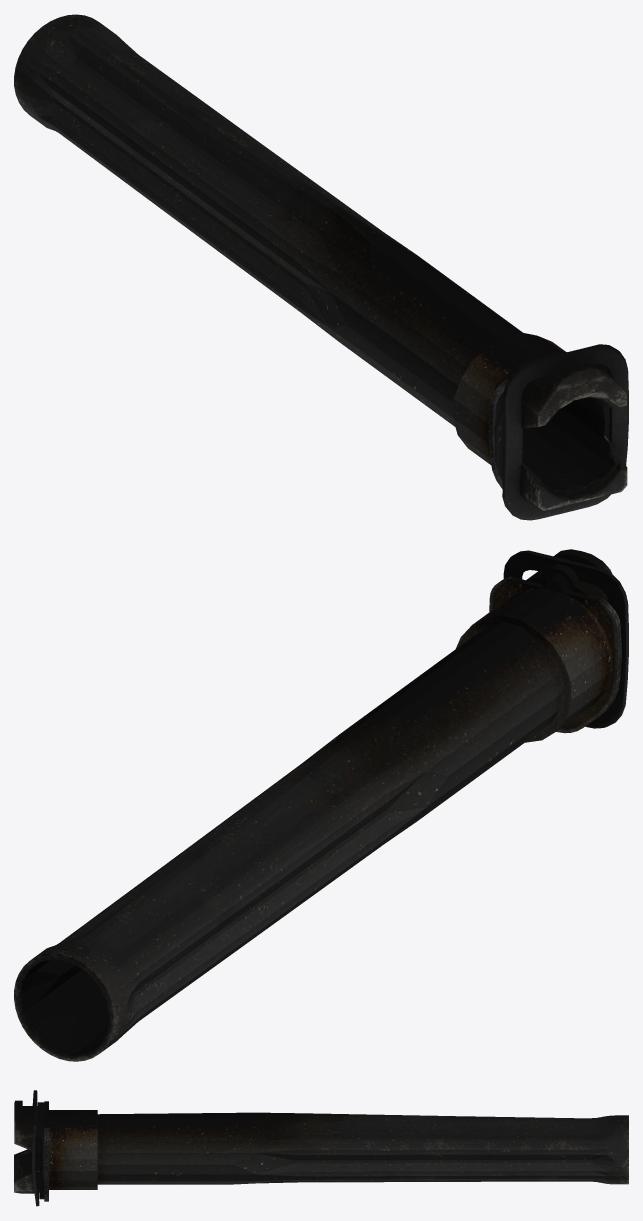
3 renders of one model, top to bottom at view 1: azimuth 30°, elevation 25°; view 2: azimuth 150°, elevation 25°; view 3: azimuth 270°, elevation 25°, orthographic. The views are drawn at different scales.
Parts seen in each view (by area): view 1: TW_5a01ad4786f77450561fda02_PZ_Import; view 2: TW_5a01ad4786f77450561fda02_PZ_Import; view 3: TW_5a01ad4786f77450561fda02_PZ_Import.
Boxes of the visible parts, x1,y1,x2,y2 form: TW_5a01ad4786f77450561fda02_PZ_Import: (14, 14, 628, 520); TW_5a01ad4786f77450561fda02_PZ_Import: (14, 549, 628, 1061); TW_5a01ad4786f77450561fda02_PZ_Import: (14, 1090, 628, 1206).
Bounding box in the file's own units: 0.0152 × 0.1054 × 0.0182.
1 material, 1 textured.
